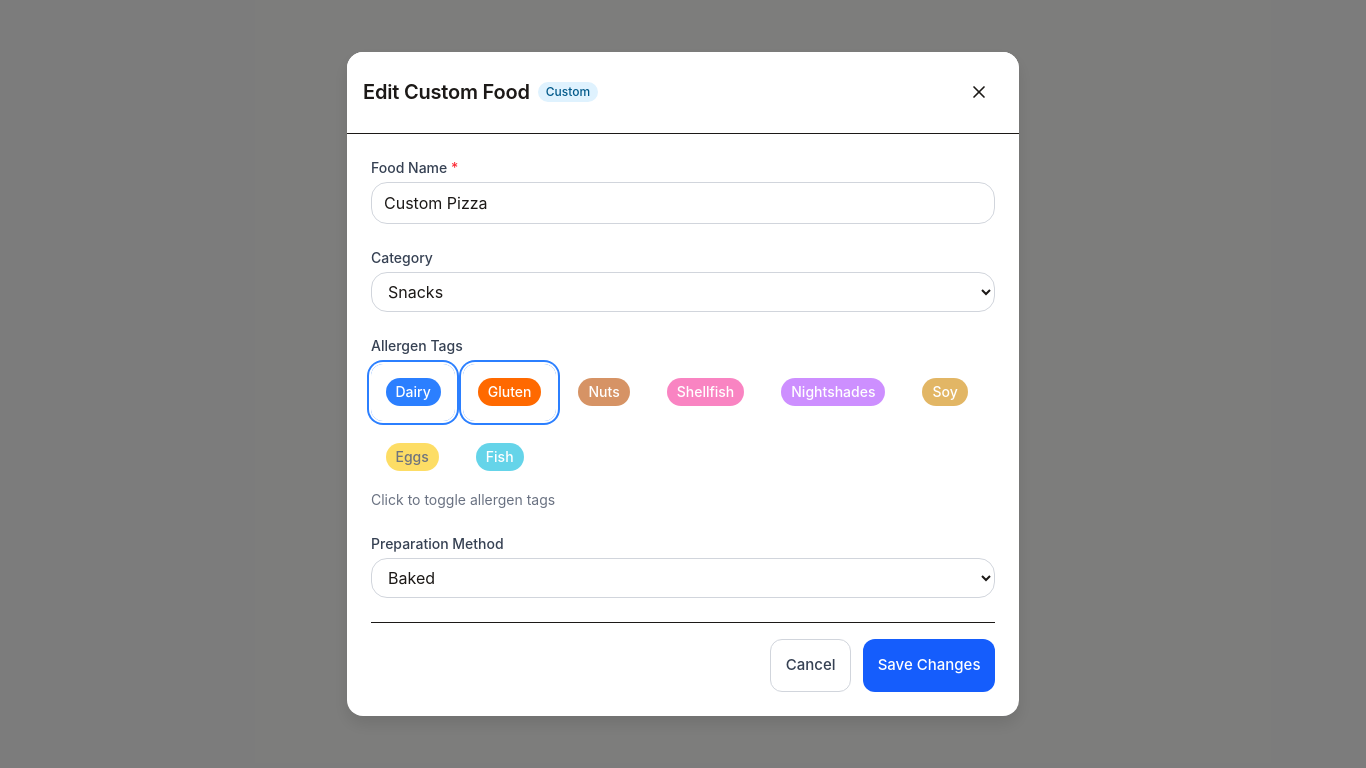
Test case: EditFoodModal › Form Validation › should show error when name is empty
The image size is (1366, 768).
Step 1. Clear the field labelled "Food Name *" → (683, 203), box left=371, top=182, right=995, bottom=224
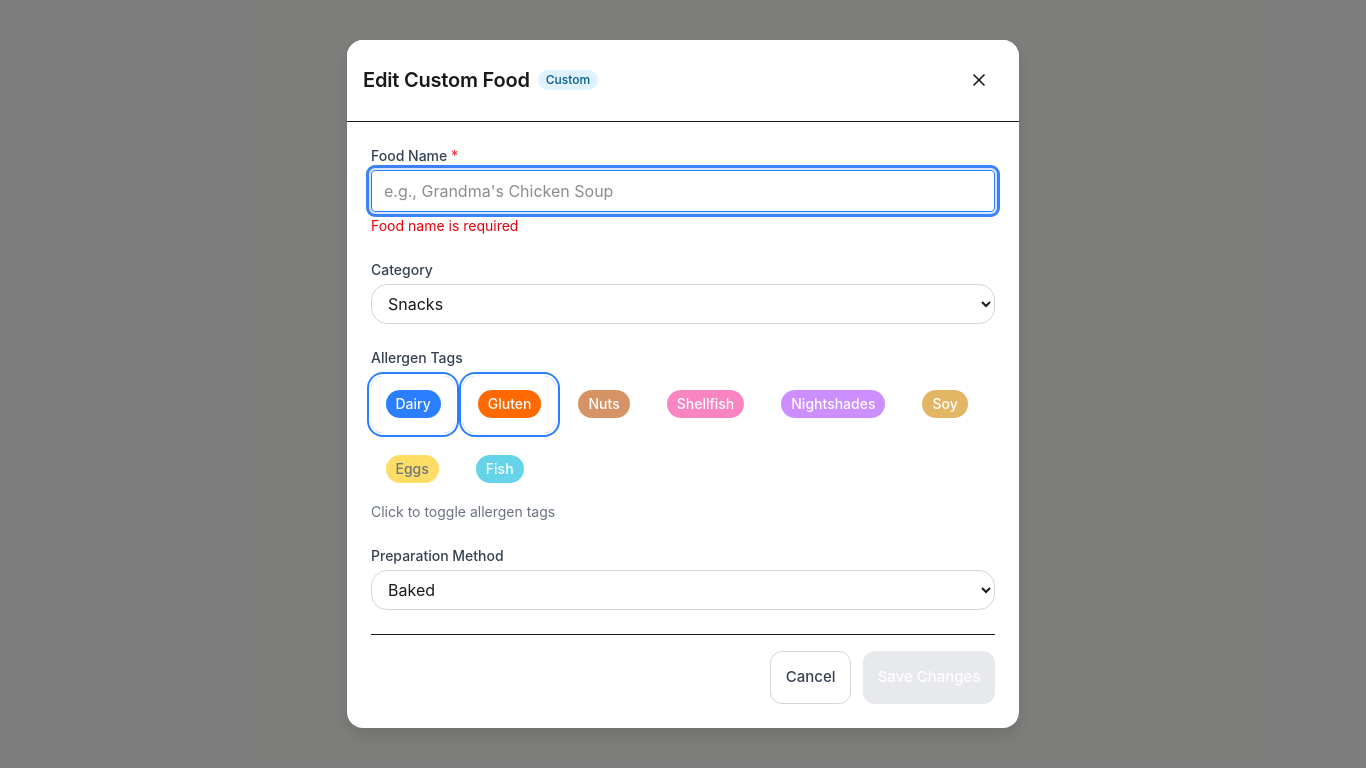
Expected: the text "Food name is required" is shown, left=371, top=217, right=518, bottom=234
